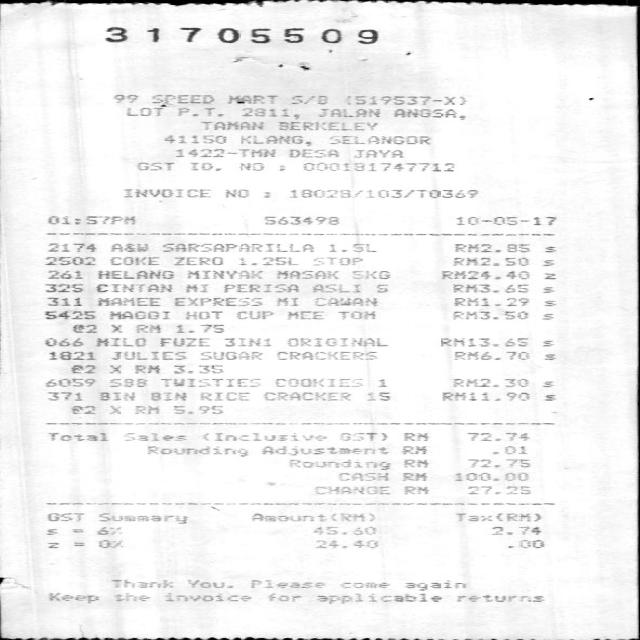text: (104, 26, 377, 43), (288, 189, 477, 197), (162, 242, 313, 251), (259, 445, 386, 455), (316, 593, 440, 603), (302, 162, 452, 170), (250, 512, 375, 521), (145, 445, 246, 456), (344, 95, 465, 104), (287, 459, 388, 469), (96, 512, 186, 523), (202, 432, 324, 440), (284, 337, 387, 346), (455, 216, 557, 225), (327, 135, 428, 144), (276, 121, 375, 130), (439, 391, 526, 401), (172, 148, 273, 156), (276, 351, 376, 359), (158, 378, 258, 386), (438, 337, 526, 346), (392, 108, 463, 119), (163, 592, 249, 601), (453, 512, 538, 521), (239, 135, 311, 145), (273, 378, 362, 386), (441, 270, 529, 278), (122, 188, 209, 196), (46, 216, 133, 224), (262, 392, 349, 400), (455, 594, 542, 602), (449, 256, 526, 265), (173, 297, 259, 305), (453, 243, 528, 252), (248, 579, 323, 588), (453, 472, 526, 481), (453, 297, 525, 306), (240, 107, 298, 118), (449, 378, 528, 386), (450, 351, 528, 359), (312, 486, 390, 494), (402, 580, 464, 590), (262, 216, 338, 224), (96, 270, 172, 278), (94, 284, 170, 292), (451, 284, 526, 292), (222, 284, 296, 292), (186, 270, 259, 278), (453, 310, 526, 318), (111, 351, 184, 359), (465, 432, 529, 441), (466, 485, 530, 494), (313, 539, 377, 548), (150, 94, 213, 103), (235, 256, 296, 265), (47, 432, 107, 441), (46, 592, 98, 602), (274, 270, 338, 278), (465, 458, 529, 466), (311, 526, 375, 534), (200, 121, 263, 129), (161, 134, 224, 142), (96, 297, 159, 305), (109, 579, 172, 587), (316, 108, 378, 116), (198, 351, 260, 359), (123, 432, 185, 440), (198, 391, 247, 401), (109, 310, 168, 318), (225, 94, 276, 103), (310, 256, 361, 265), (326, 243, 375, 252), (159, 337, 207, 346), (175, 107, 222, 116), (48, 242, 95, 251), (315, 298, 375, 305), (488, 526, 540, 534), (223, 337, 269, 346), (352, 148, 403, 156), (310, 284, 361, 292), (43, 378, 94, 386), (336, 472, 387, 480), (186, 579, 231, 588), (43, 256, 93, 264), (172, 256, 222, 264), (108, 256, 158, 264), (43, 310, 93, 318), (42, 336, 82, 346), (94, 338, 144, 346), (172, 364, 222, 372), (170, 405, 219, 413), (288, 148, 336, 156), (175, 324, 223, 332), (338, 432, 386, 440), (44, 512, 84, 521), (350, 270, 389, 279), (44, 283, 82, 292), (110, 242, 147, 251), (233, 310, 270, 319), (506, 539, 542, 548), (290, 95, 325, 104), (48, 351, 93, 358), (123, 107, 162, 115), (96, 392, 135, 400), (491, 445, 525, 454), (337, 582, 388, 588), (135, 162, 173, 170), (336, 310, 373, 318), (107, 378, 144, 386), (149, 392, 186, 400), (45, 392, 81, 400), (111, 592, 147, 600), (45, 297, 80, 305), (184, 310, 219, 318), (48, 270, 82, 278), (288, 310, 322, 318), (265, 593, 299, 601), (187, 162, 218, 170), (94, 526, 121, 535), (69, 364, 95, 373), (133, 405, 159, 414), (399, 472, 425, 481), (401, 432, 426, 441), (401, 458, 426, 467), (70, 324, 94, 333), (364, 391, 388, 400), (70, 405, 94, 414), (96, 539, 122, 547), (110, 94, 135, 102), (401, 486, 426, 494), (135, 324, 159, 332), (133, 364, 157, 372), (400, 446, 424, 454), (239, 162, 262, 170), (224, 188, 245, 196), (184, 284, 205, 292), (276, 298, 297, 303), (109, 324, 121, 332), (108, 405, 120, 413), (108, 364, 119, 372), (375, 284, 387, 291), (374, 378, 384, 386), (542, 273, 554, 279), (542, 353, 554, 359), (542, 394, 554, 400), (43, 528, 55, 534), (542, 380, 552, 387), (542, 300, 554, 305), (542, 313, 552, 319), (46, 542, 58, 547), (541, 340, 550, 346), (544, 246, 554, 251), (542, 260, 552, 265), (542, 287, 551, 292)
